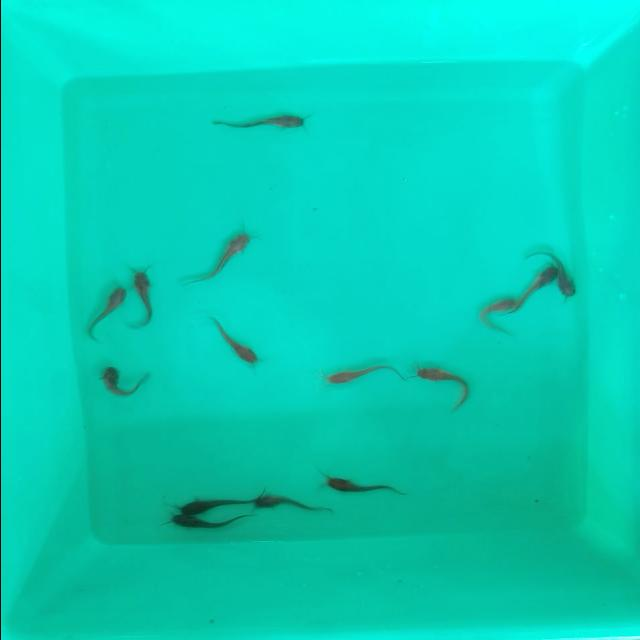lele: (206, 311, 256, 367), (416, 368, 476, 413), (86, 284, 132, 340), (201, 234, 254, 276), (325, 364, 406, 389), (258, 492, 330, 518), (479, 298, 526, 336), (212, 114, 308, 132), (165, 514, 251, 534), (170, 494, 255, 514), (97, 363, 145, 398), (324, 474, 404, 494), (520, 263, 558, 303), (131, 266, 157, 324), (551, 247, 579, 296)
